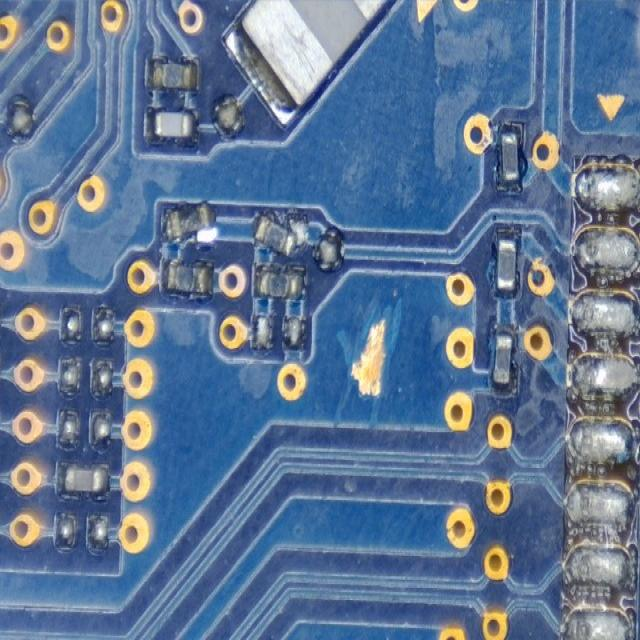Dry_joint: (573, 292, 638, 337), (577, 165, 640, 211), (574, 228, 636, 274), (566, 546, 630, 590), (568, 484, 632, 528), (572, 420, 633, 463), (573, 356, 634, 395), (564, 610, 630, 640)
Incorrect_installation: (254, 212, 306, 256), (163, 203, 218, 243)
